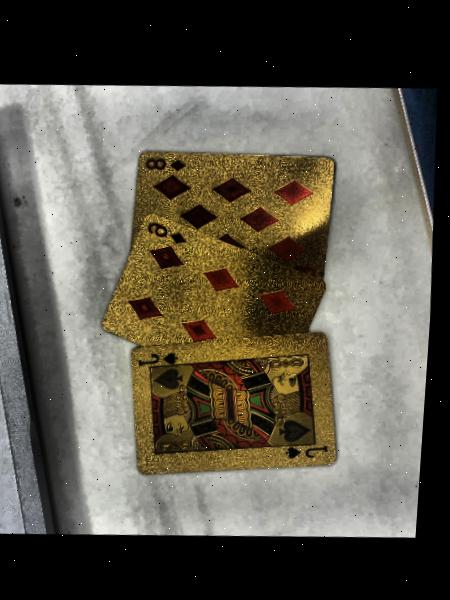6D: (142, 216, 192, 252)
8D: (140, 150, 190, 176)
JP: (279, 438, 333, 464), (131, 346, 181, 370)
